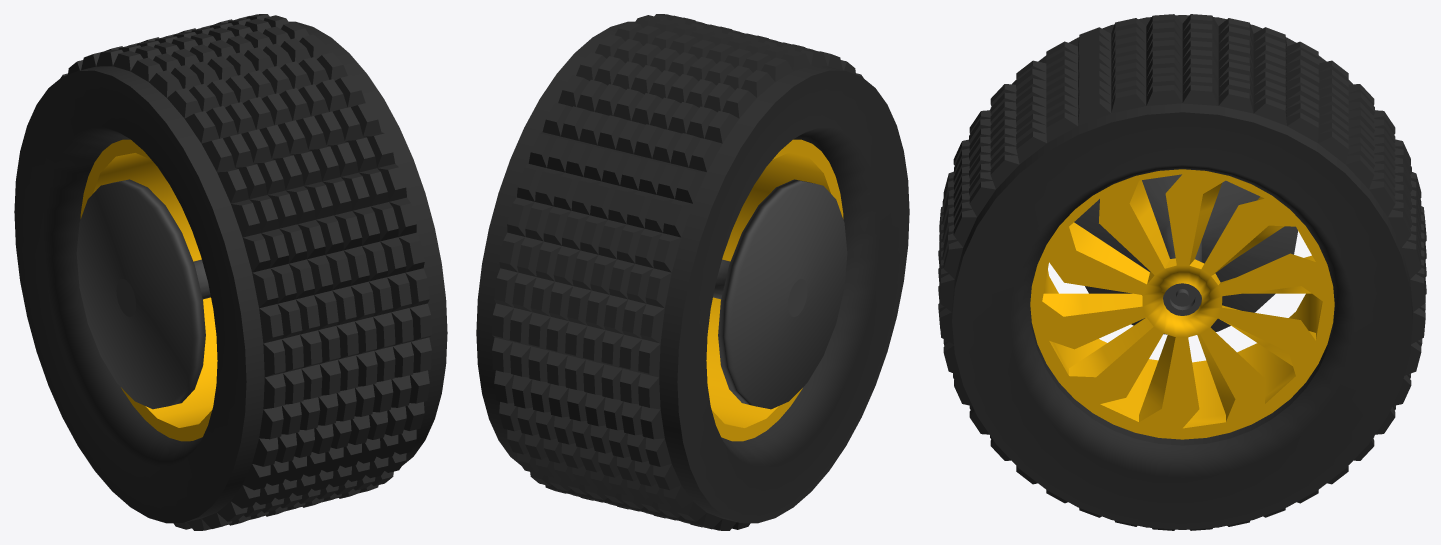
Rendered from tires.fbx.
The picture shows the model from 3 angles, left to right: view 1: azimuth 30°, elevation 25°; view 2: azimuth 150°, elevation 25°; view 3: azimuth 270°, elevation 25°; orthographic projection.
Visible parts, largest first — view 1: pCylinder61; view 2: pCylinder61; view 3: pCylinder61.
Boxes of the visible parts, x1,y1,x2,y2 form: pCylinder61: (14, 14, 447, 530); pCylinder61: (476, 14, 909, 530); pCylinder61: (938, 14, 1426, 530).
Size of the model in its own units: 4.26 by 8.84 by 8.84.
